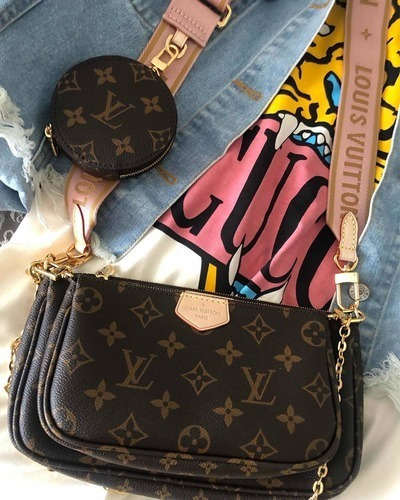cartera: (9, 248, 367, 500)
